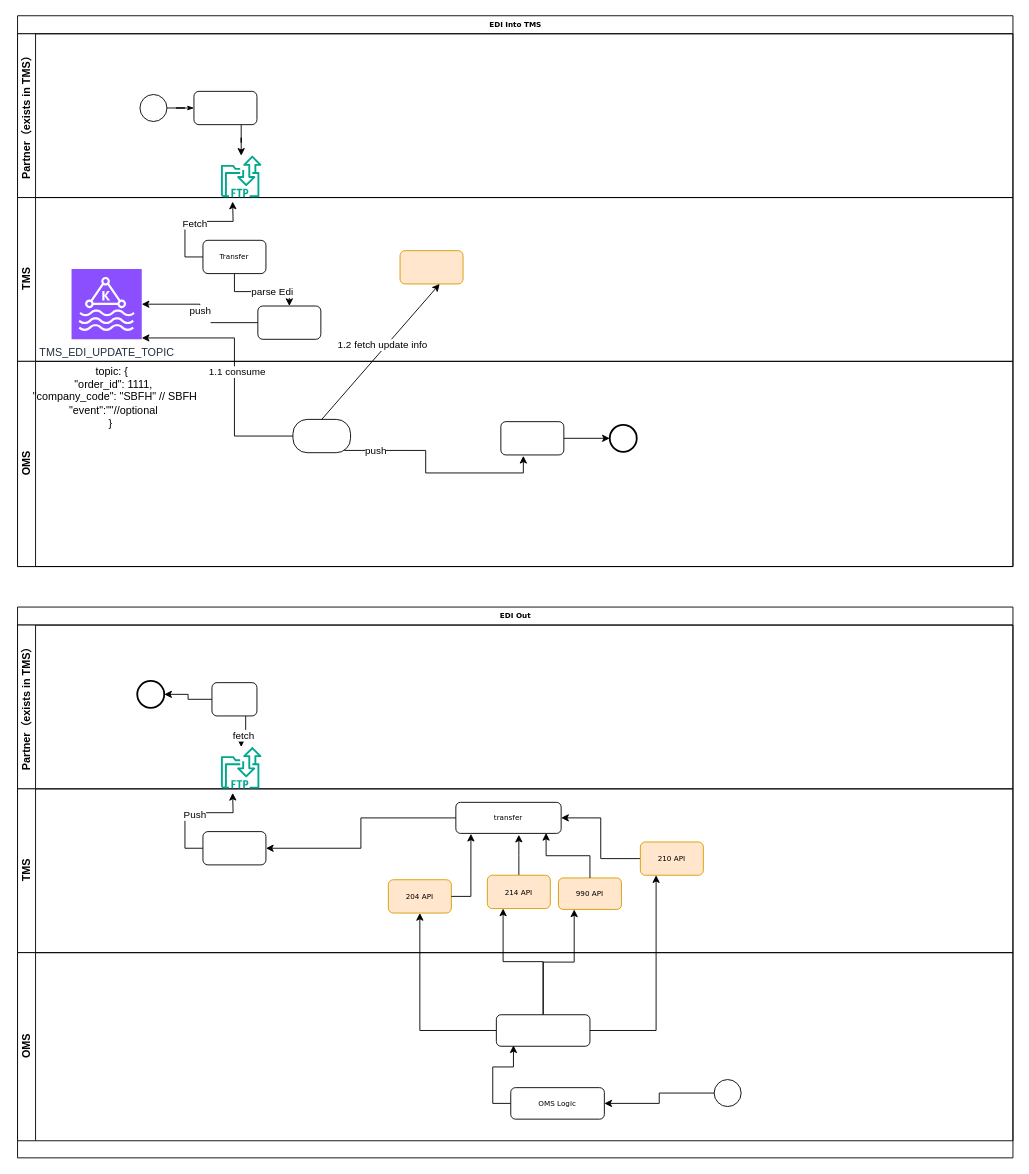
The diagram is 1029 pixels wide and 1174 high, and some of its shapes have lost their labels. The shapes that lost their labels are listed below. From the top down, each one's centre as x and y in pixels, then its label:
the point at 225,107: EDI File
the point at 431,267: Trace Order API
the point at 289,322: Order
the point at 321,435: DI : Adpter
the point at 532,438: 1.3 OMS Logic
the point at 234,699: Partner Logic
the point at 234,848: generate EDI
the point at 542,1030: DI: Adapter
